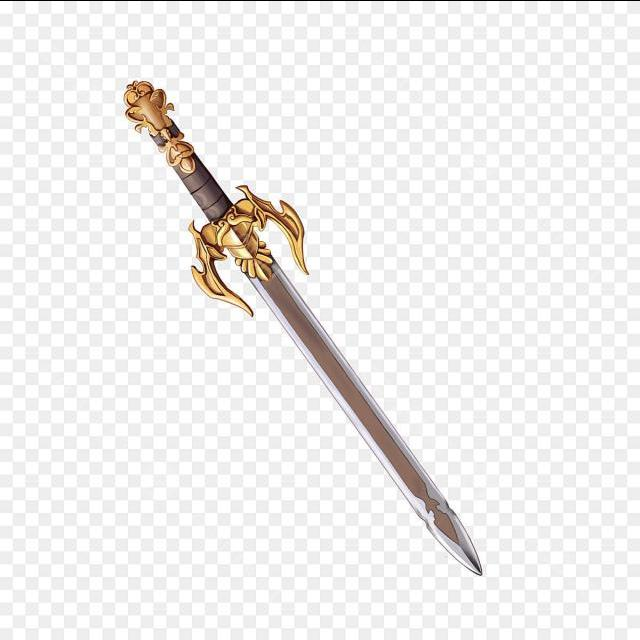sword: (120, 77, 489, 581)
